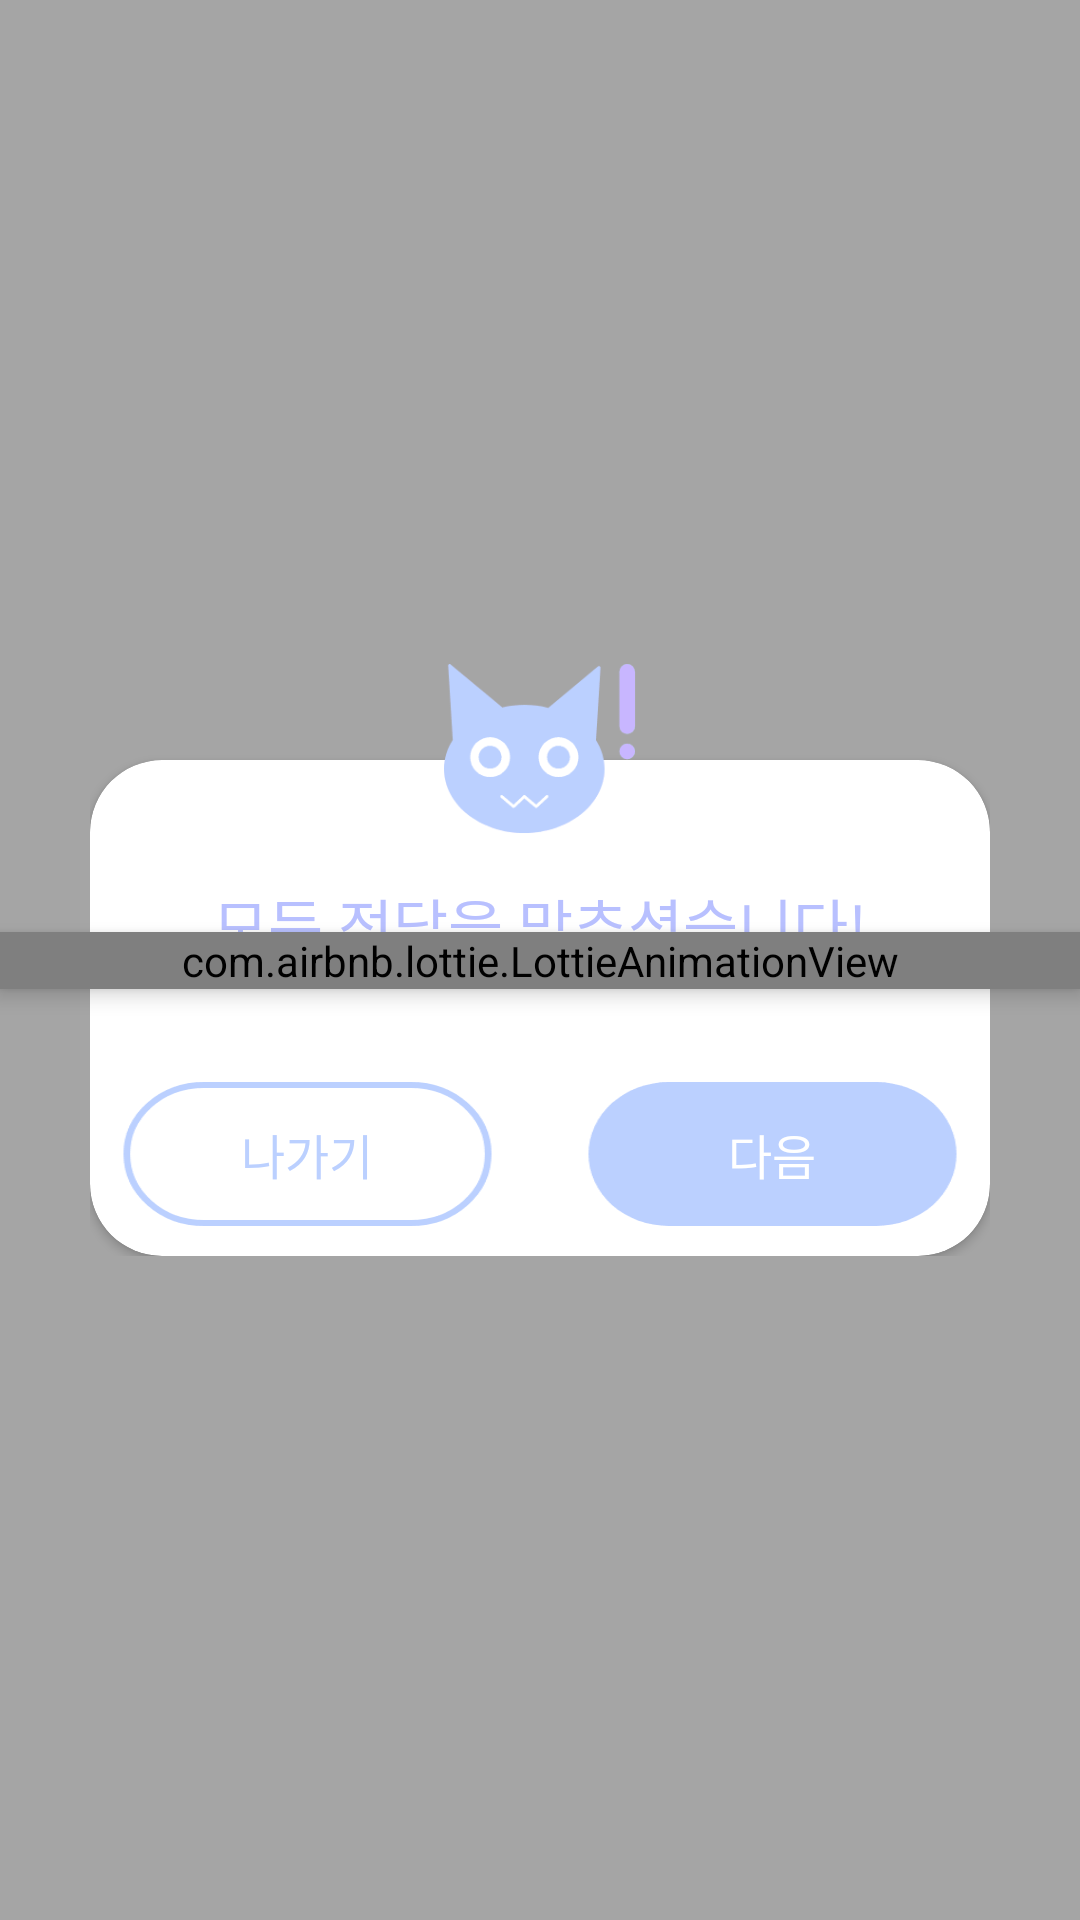

Icons on this 1080px x 1920px Android screen, each with the point to tap as point (x, y):
cat wow: point (540, 749)
